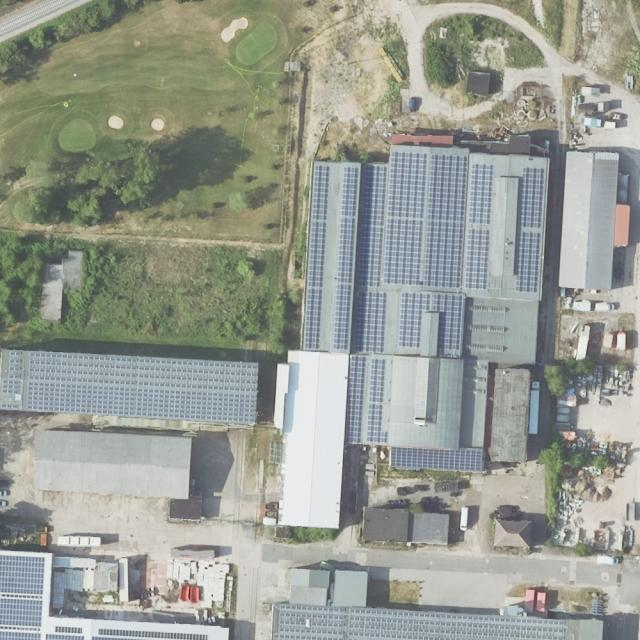PV: (26, 353, 257, 423), (279, 606, 565, 640), (423, 155, 466, 290), (383, 152, 426, 286), (333, 167, 356, 349), (305, 165, 327, 348), (398, 291, 462, 350), (358, 165, 385, 288), (390, 447, 481, 470), (353, 291, 385, 351), (0, 555, 45, 595), (366, 359, 386, 443), (344, 356, 363, 444), (464, 229, 488, 291), (519, 167, 542, 229), (516, 232, 539, 293), (469, 164, 491, 225), (0, 598, 43, 626), (3, 351, 21, 394), (273, 635, 369, 640), (0, 633, 41, 640), (45, 633, 86, 640), (92, 636, 159, 640), (2, 403, 19, 408)
